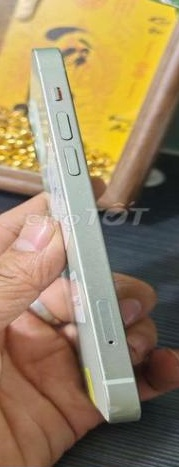scratch: (95, 397, 142, 422)
